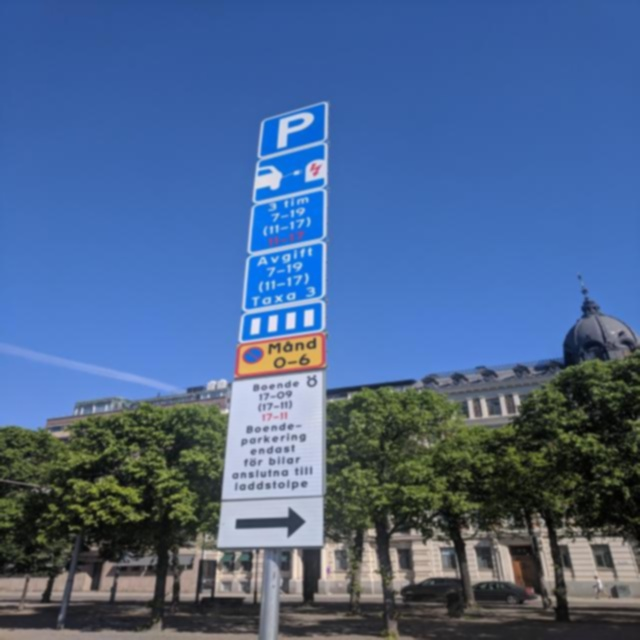P-skylt: (256, 106, 336, 149)
